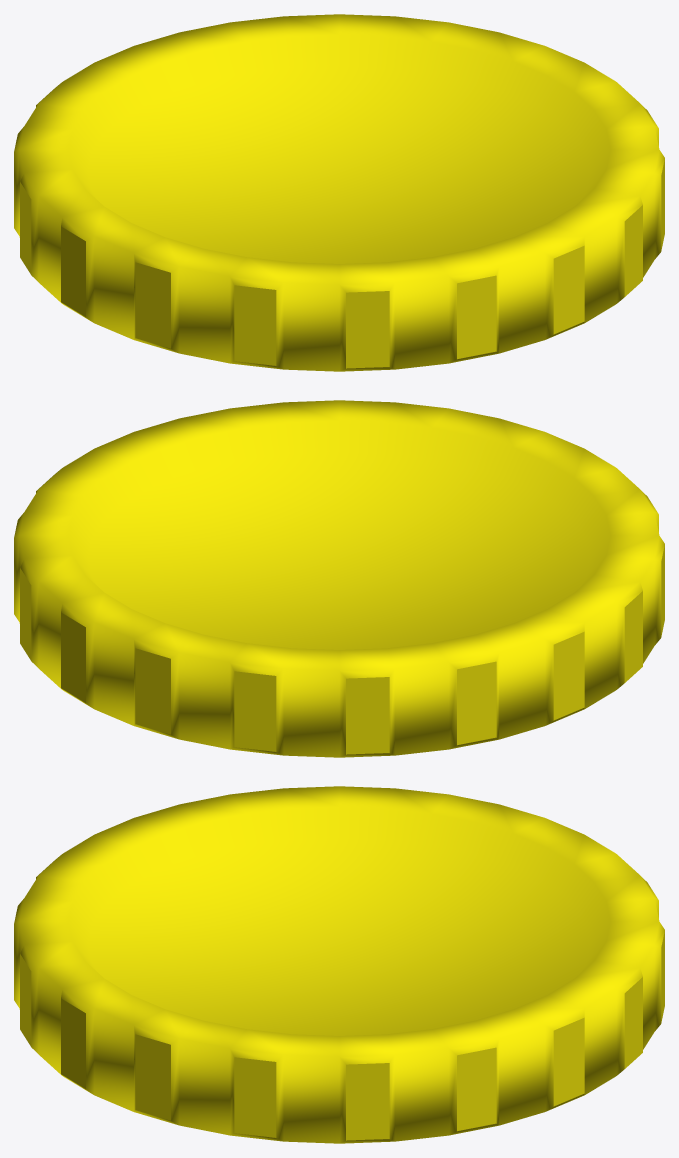
The model's file is coin.fbx.
3 views of the same model, one above another, from view 1: azimuth 30°, elevation 25°; view 2: azimuth 150°, elevation 25°; view 3: azimuth 270°, elevation 25° (orthographic).
Parts seen in each view (by area): view 1: Zylinder; view 2: Zylinder; view 3: Zylinder.
Part boxes in pixels (x1,y1,x2,y2): Zylinder: (14,14,664,371); Zylinder: (14,400,664,757); Zylinder: (14,786,664,1143).
Bounding box in the file's own units: 102 × 15 × 102.
